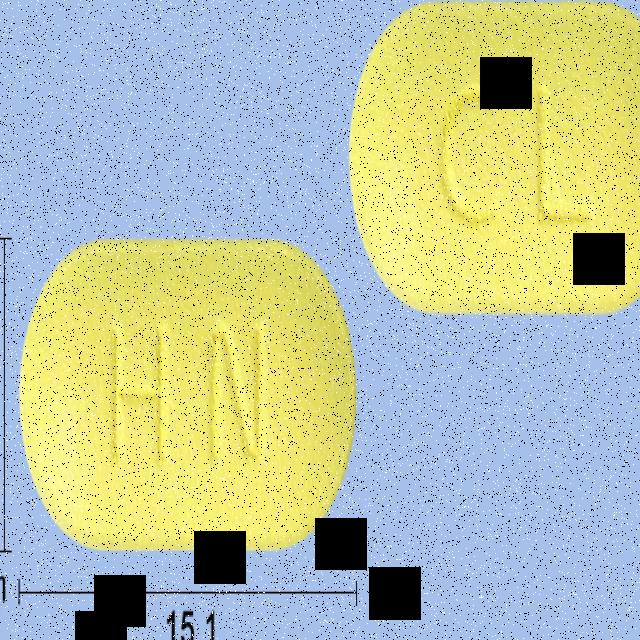Cyclin: (15, 232, 358, 548), (347, 0, 640, 318)
